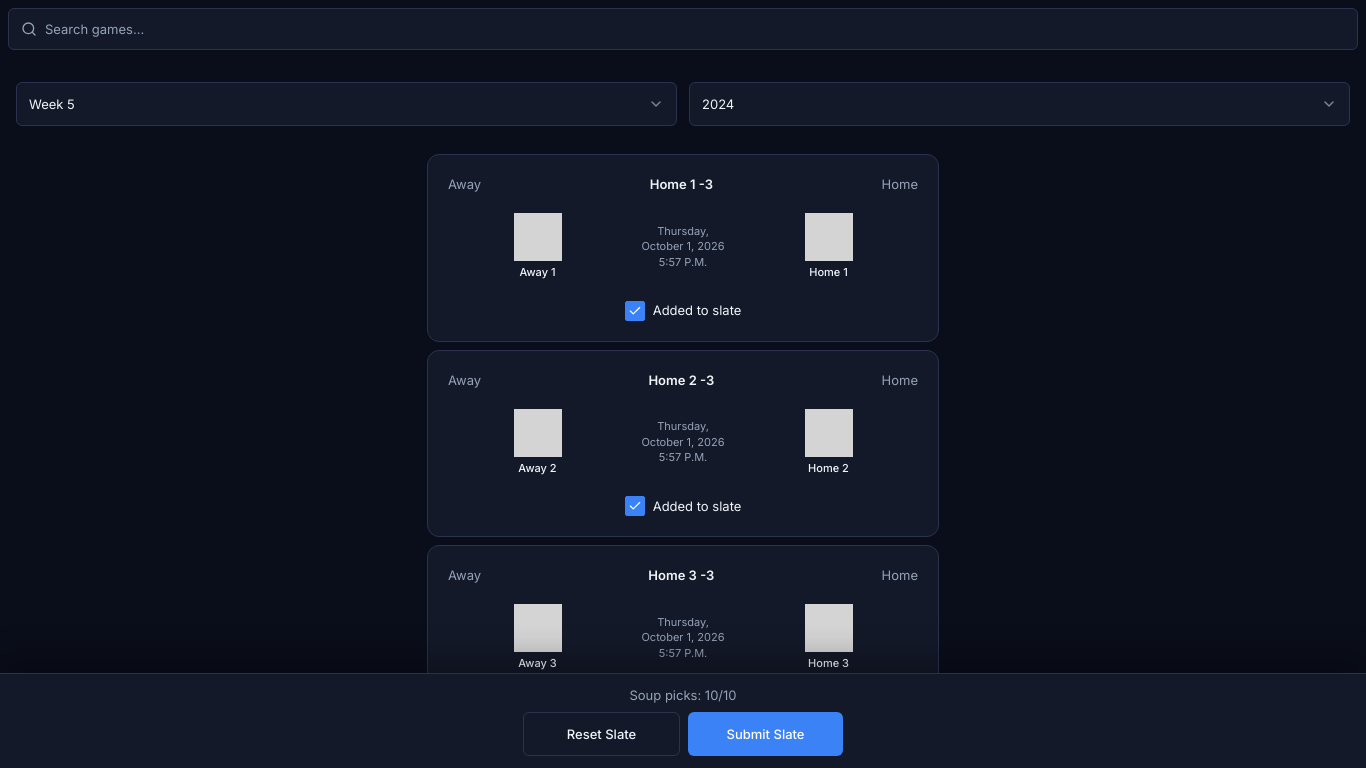
a failed submit surfaces an error and no navigation action
The width and height of the screenshot is (1366, 768).
Expected: the text "Soup picks: 10/10" is shown, [630,686,737,704]
Click the button "Submit Slate" at x=766, y=734, box [688,712,843,756]
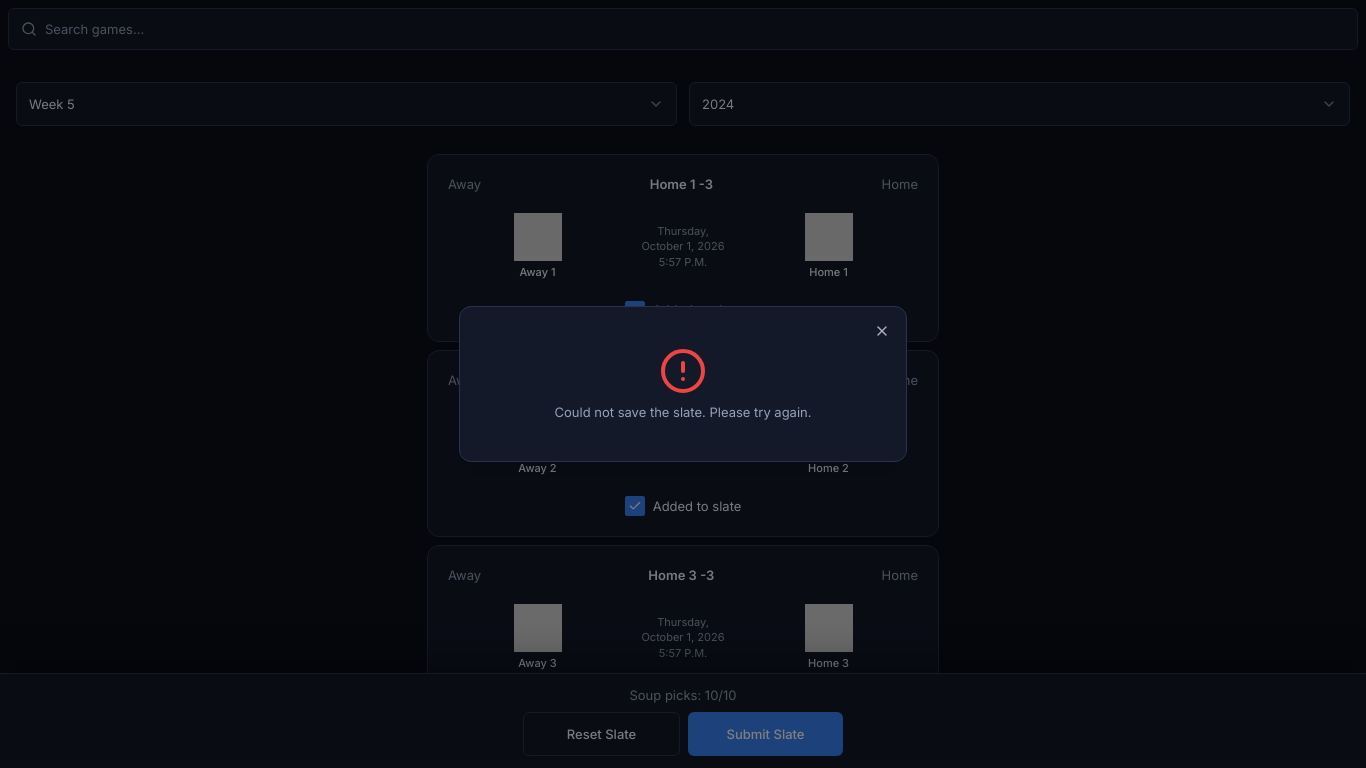
Expected: the text "Could not save the slate. Please try again." is shown, [554,403,812,421]
